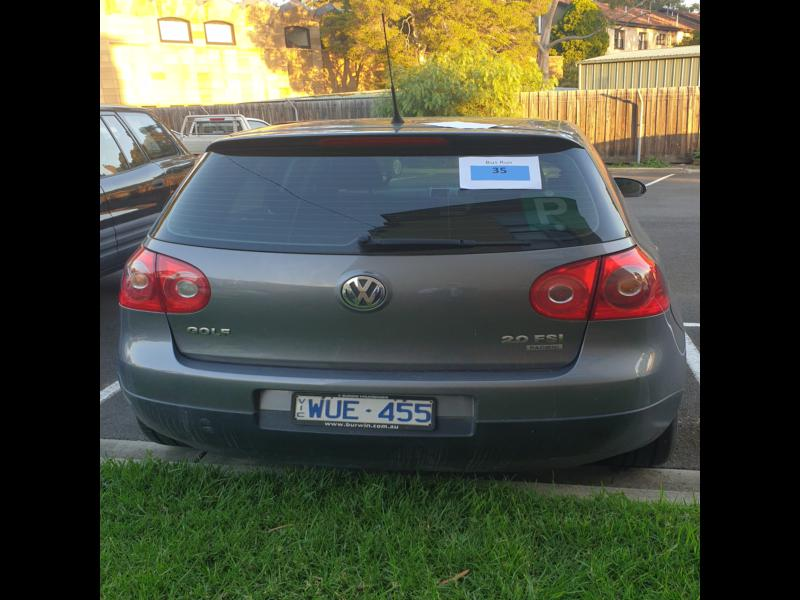BusRun: (469, 164, 531, 183)
PlateNo: (295, 392, 433, 424)
